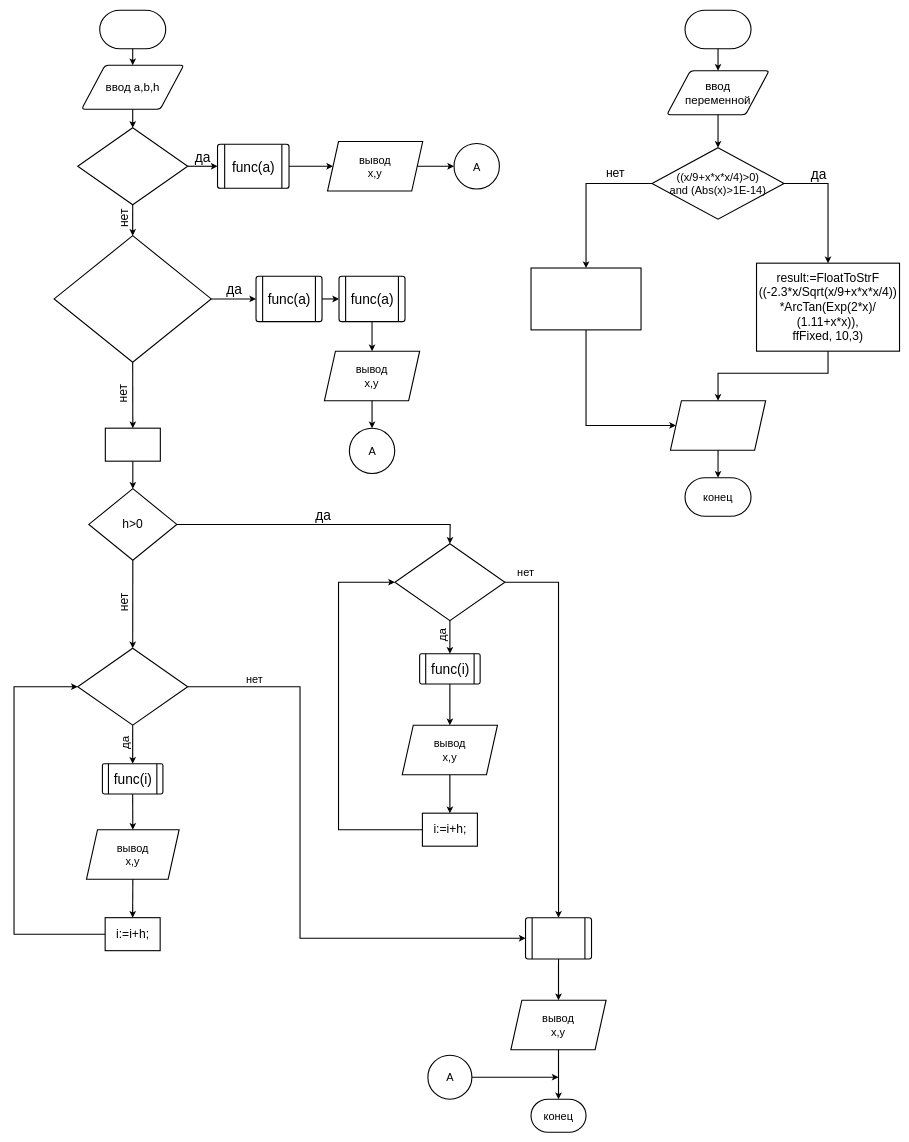
Image size: 909x1142. Some labels were removed from this diagram. The box of each missing label's shape, as (x1, y1, x2, y2) in pixels:
(a>b) and (h>0) or (a<b) and (h<0) or h=0 or Abs(b-a)<=Abs(h): (53, 235, 212, 362)
a=b: (77, 127, 188, 205)
func() начало: (684, 9, 751, 49)
func(b): (525, 917, 592, 959)
i:=a: (105, 427, 161, 461)
i<=b-h/1000 and i<>b: (394, 543, 505, 621)
i>=b+h/1000 and i<>b: (77, 647, 188, 725)
result:='нет значений': (530, 267, 641, 330)
возврат result: (670, 400, 766, 450)
начало: (99, 9, 166, 49)
